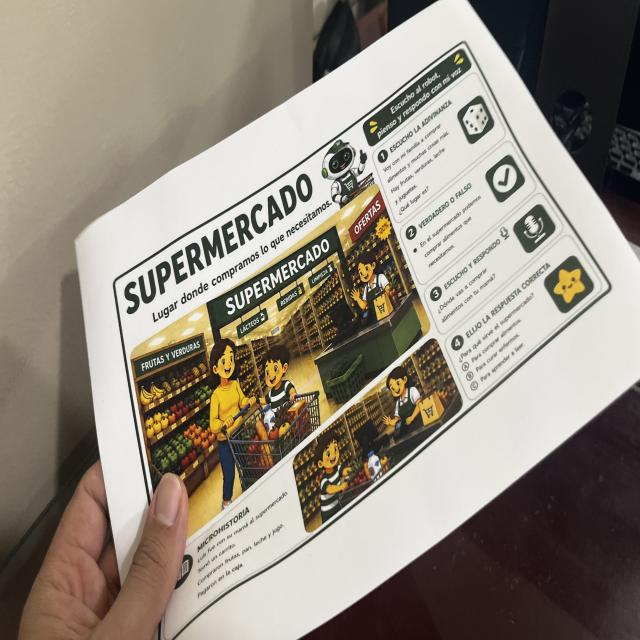supermercado: (109, 35, 616, 640)
